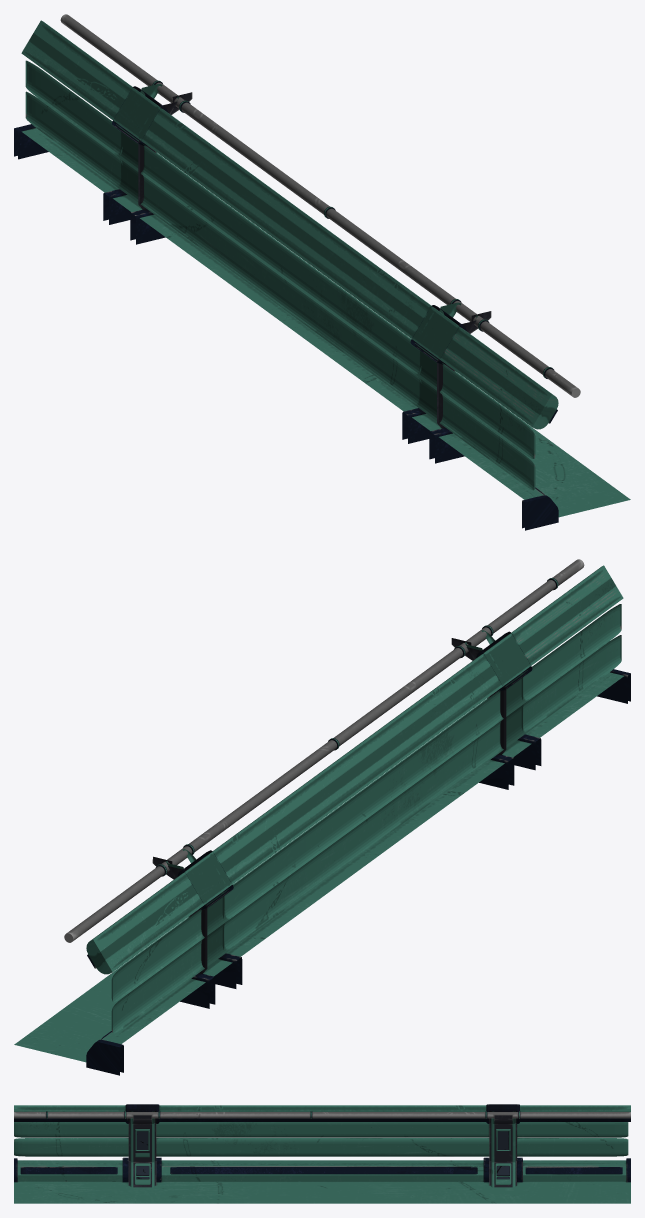
File: 5 yuka.fbx
3 views of the same model, one above another, from view 1: azimuth 30°, elevation 25°; view 2: azimuth 150°, elevation 25°; view 3: azimuth 270°, elevation 25° (orthographic). The views are drawn at different scales.
Visible parts, largest first — view 1: polySurface212, polySurface220.001, polySurface214, polySurface222, polySurface167, polySurface192; view 2: polySurface212, polySurface220.001, polySurface214, polySurface222, polySurface167, polySurface192; view 3: polySurface220.001, polySurface167, polySurface212, polySurface222, polySurface214, polySurface199, polySurface213, polySurface225, polySurface224.001, polySurface192.
Part boxes in pixels (x1,y1,x2,y2): polySurface212: (21,20,558,499); polySurface220.001: (25,60,535,490); polySurface214: (60,14,580,397); polySurface222: (14,86,558,530); polySurface167: (156,153,630,517); polySurface192: (138,101,476,428); polySurface212: (86,565,623,1044); polySurface220.001: (111,604,621,1033); polySurface214: (64,559,584,942); polySurface222: (86,631,630,1075); polySurface167: (14,698,487,1062); polySurface192: (168,647,506,973); polySurface220.001: (14,1122,628,1156); polySurface167: (14,1181,630,1203); polySurface212: (14,1105,630,1181); polySurface222: (14,1104,630,1182); polySurface214: (14,1112,630,1118); polySurface199: (133,1115,512,1187); polySurface213: (130,1111,515,1187); polySurface225: (136,1131,509,1179); polySurface224.001: (135,1129,511,1184); polySurface192: (128,1111,516,1185).
Size of the model in its own units: 15.38 by 18.26 by 128.
Materials: 1 (1 with a texture image).
